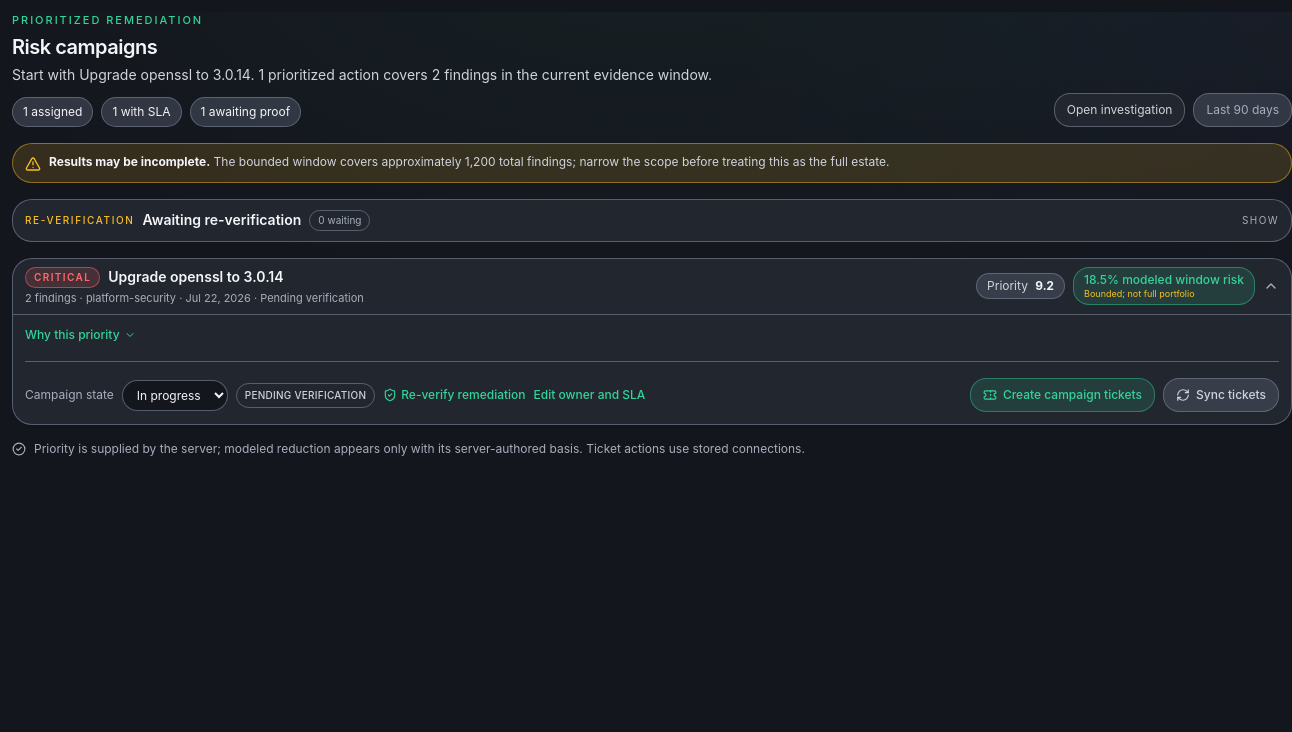
it: RiskCampaignCommandCenter › reports successful server verification without caller-authored status
Check: the heading "Upgrade openssl to 3.0.14" is shown, box [108,267,284,287]
Click the button "Re-verify remediation". click: (454, 395)
box: [383,387,526,403]
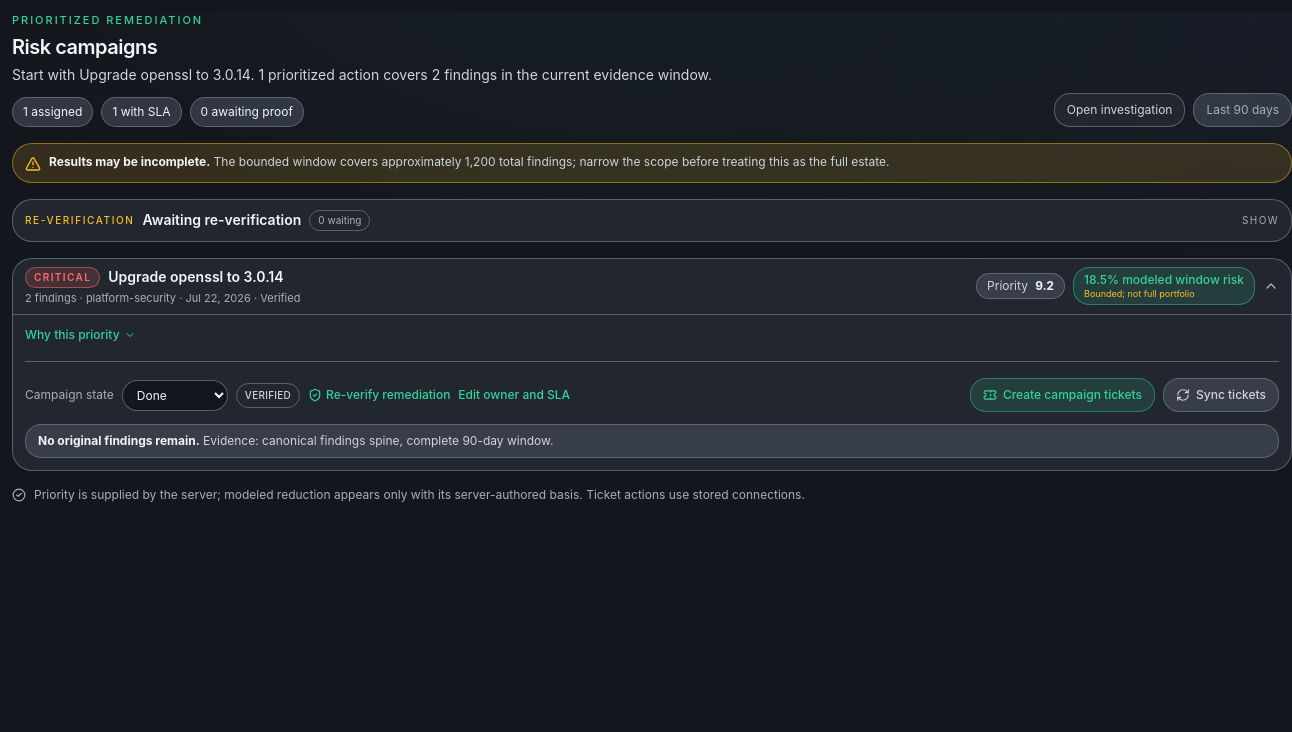
Check: the text "No original findings remain." is shown, box [38,433,200,448]
Check: the text "Verified" is shown, box [236,382,300,408]
